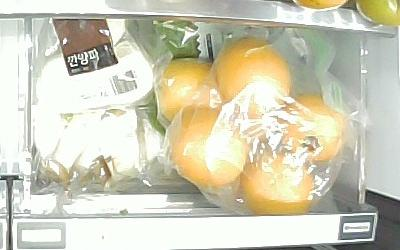orange_vinyl: (217, 37, 292, 118), (169, 117, 247, 187), (273, 94, 346, 162), (243, 152, 319, 216), (154, 56, 220, 127)
